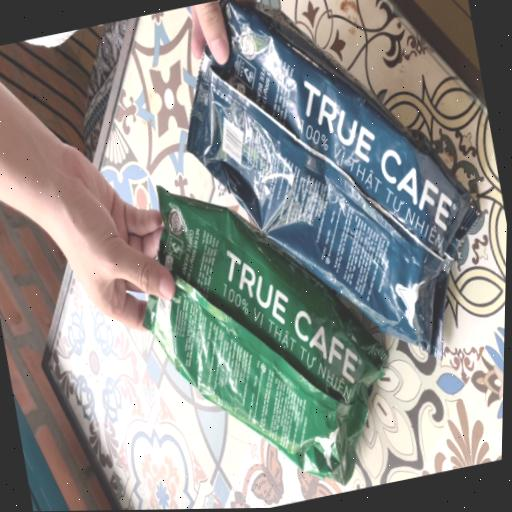cafe_hat: (187, 0, 482, 357)
cafe_xay: (143, 187, 386, 484), (158, 186, 386, 403)
